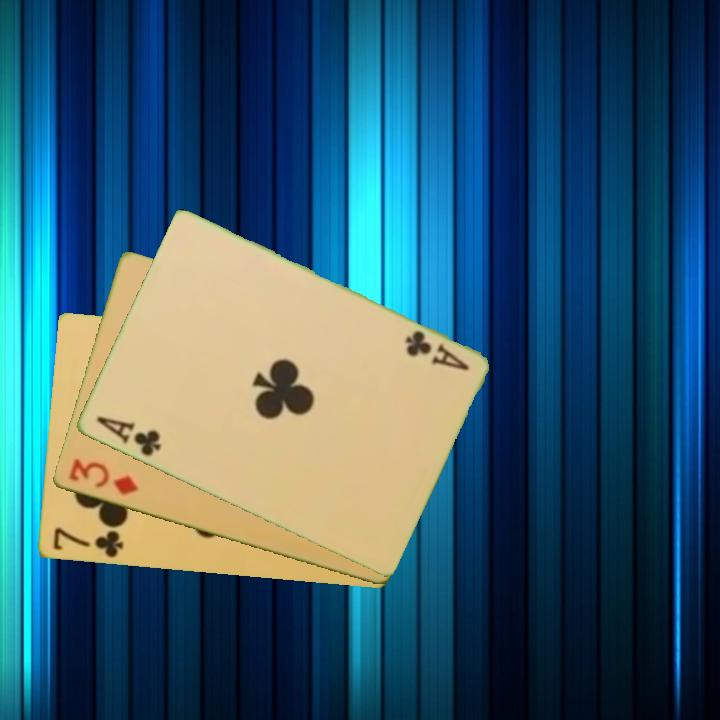3d: (65, 455, 141, 499)
7c: (49, 525, 126, 561)
Ac: (92, 412, 164, 460), (400, 326, 471, 374)
